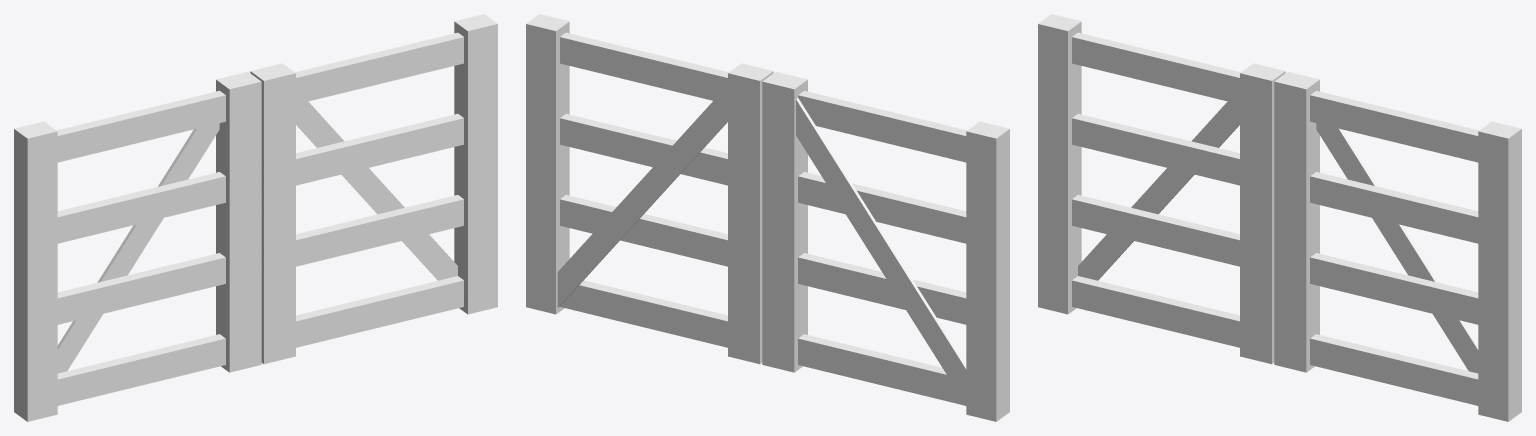
File: Bld_01_Fence_Wood_Gate_Double_Handle_01.glb
3 renders of one model, left to right at view 1: azimuth 30°, elevation 25°; view 2: azimuth 150°, elevation 25°; view 3: azimuth 330°, elevation 25°, orthographic.
Parts seen in each view (by area): view 1: Bld_01_Fence_Wood_Gate_Double_Left_01, Bld_01_Fence_Wood_Gate_Double_Right_01; view 2: Bld_01_Fence_Wood_Gate_Double_Left_01, Bld_01_Fence_Wood_Gate_Double_Right_01; view 3: Bld_01_Fence_Wood_Gate_Double_Right_01, Bld_01_Fence_Wood_Gate_Double_Left_01.
Boxes of the visible parts, <box> form: Bld_01_Fence_Wood_Gate_Double_Left_01: <box>14,71,261,421</box>; Bld_01_Fence_Wood_Gate_Double_Right_01: <box>250,14,497,364</box>; Bld_01_Fence_Wood_Gate_Double_Left_01: <box>762,71,1009,421</box>; Bld_01_Fence_Wood_Gate_Double_Right_01: <box>526,14,773,364</box>; Bld_01_Fence_Wood_Gate_Double_Right_01: <box>1274,71,1521,421</box>; Bld_01_Fence_Wood_Gate_Double_Left_01: <box>1038,14,1285,364</box>.
Size of the model in its own units: 1.8 by 1.04 by 0.0898.
Materials: 1 (1 with a texture image).
